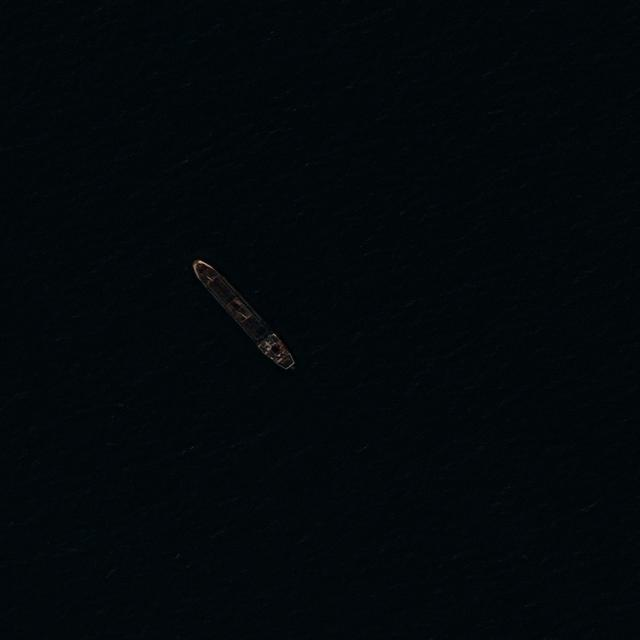Oil Tanker: (186, 255, 299, 374)
